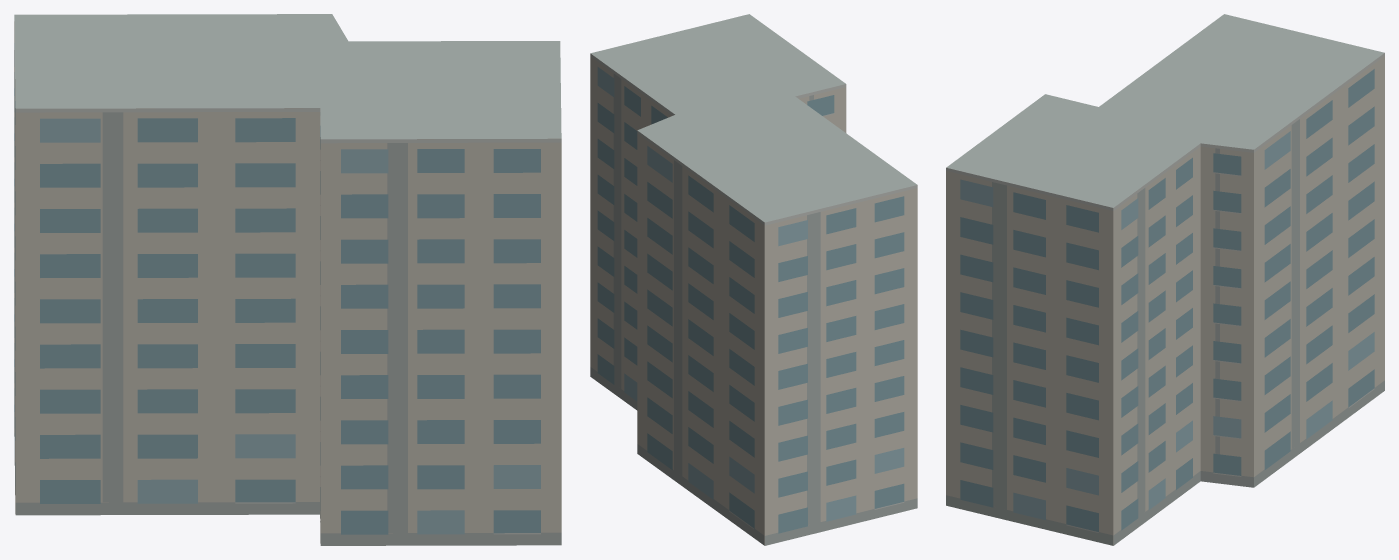
File: residential-9e3a6395-a22b-41ff-8d33-4ade5582db95.glb
3 renders of one model, left to right at view 1: azimuth 30°, elevation 25°; view 2: azimuth 150°, elevation 25°; view 3: azimuth 270°, elevation 25°, orthographic. The views are drawn at different scales.
Visible parts, largest first — view 1: residential-9e3a6395-a22b-41ff-8d33-4ade5582db95.tmp; view 2: residential-9e3a6395-a22b-41ff-8d33-4ade5582db95.tmp; view 3: residential-9e3a6395-a22b-41ff-8d33-4ade5582db95.tmp.
Part boxes in pixels (x1,y1,x2,y2): residential-9e3a6395-a22b-41ff-8d33-4ade5582db95.tmp: (14, 14, 561, 545); residential-9e3a6395-a22b-41ff-8d33-4ade5582db95.tmp: (590, 14, 917, 545); residential-9e3a6395-a22b-41ff-8d33-4ade5582db95.tmp: (946, 14, 1384, 545).
Bounding box in the file's own units: 32.01 × 26 × 30.6.
